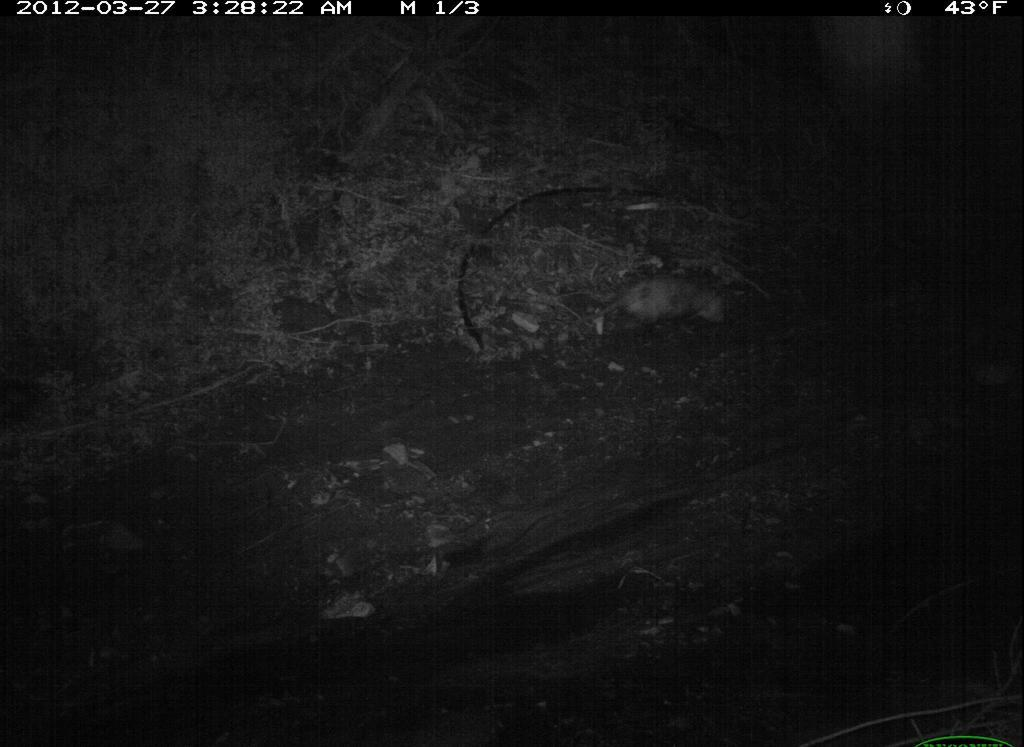opossum: (565, 260, 737, 358)
